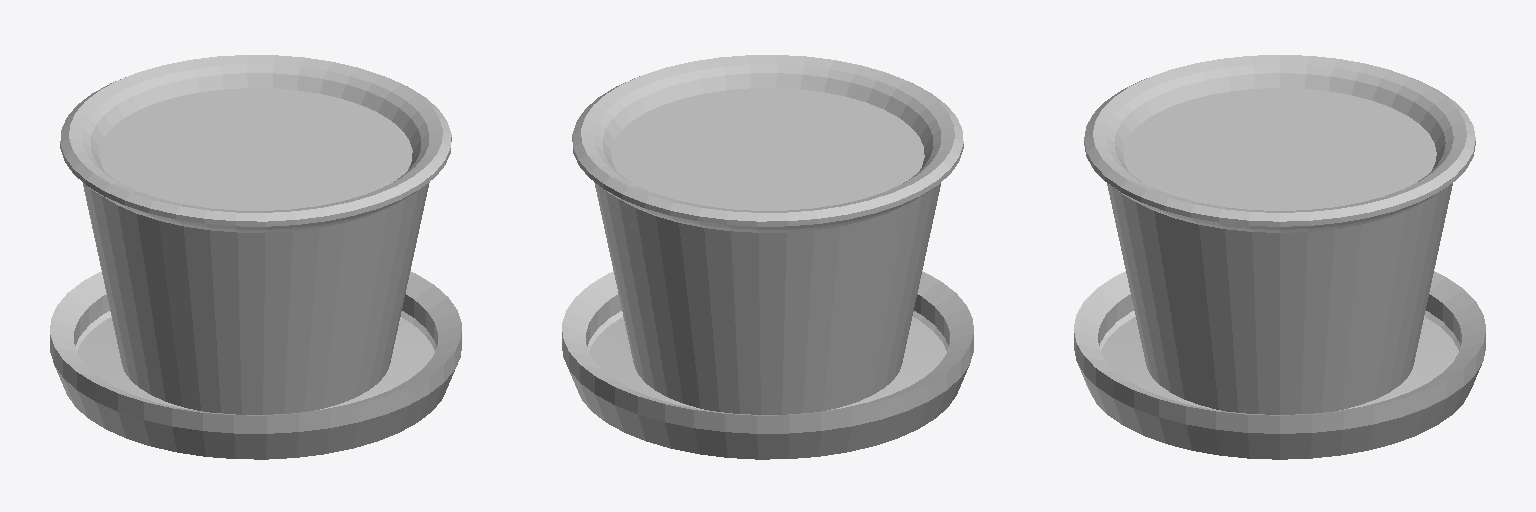
The model's file is flowerpot4.obj.
3 renders of one model, left to right at view 1: azimuth 30°, elevation 25°; view 2: azimuth 150°, elevation 25°; view 3: azimuth 270°, elevation 25°, orthographic.
Visible parts, largest first — view 1: grp1; view 2: grp1; view 3: grp1.
Boxes of the visible parts, box(x1,y1,x2,y2) form: grp1: box(50, 55, 461, 459); grp1: box(562, 55, 973, 459); grp1: box(1074, 55, 1485, 459).
Bounding box in the file's own units: 11.42 × 7.46 × 11.42.